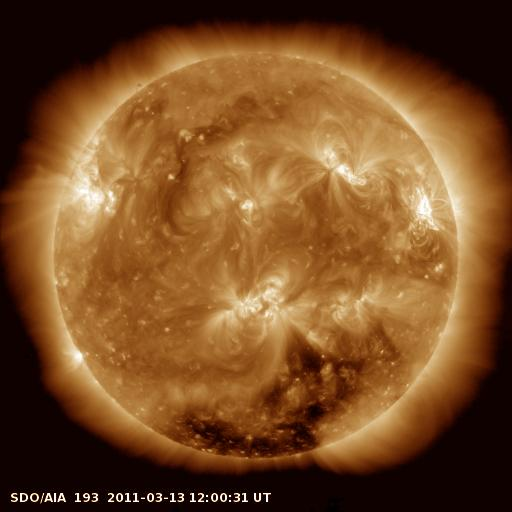coronal_hole: (156, 329, 365, 458)
